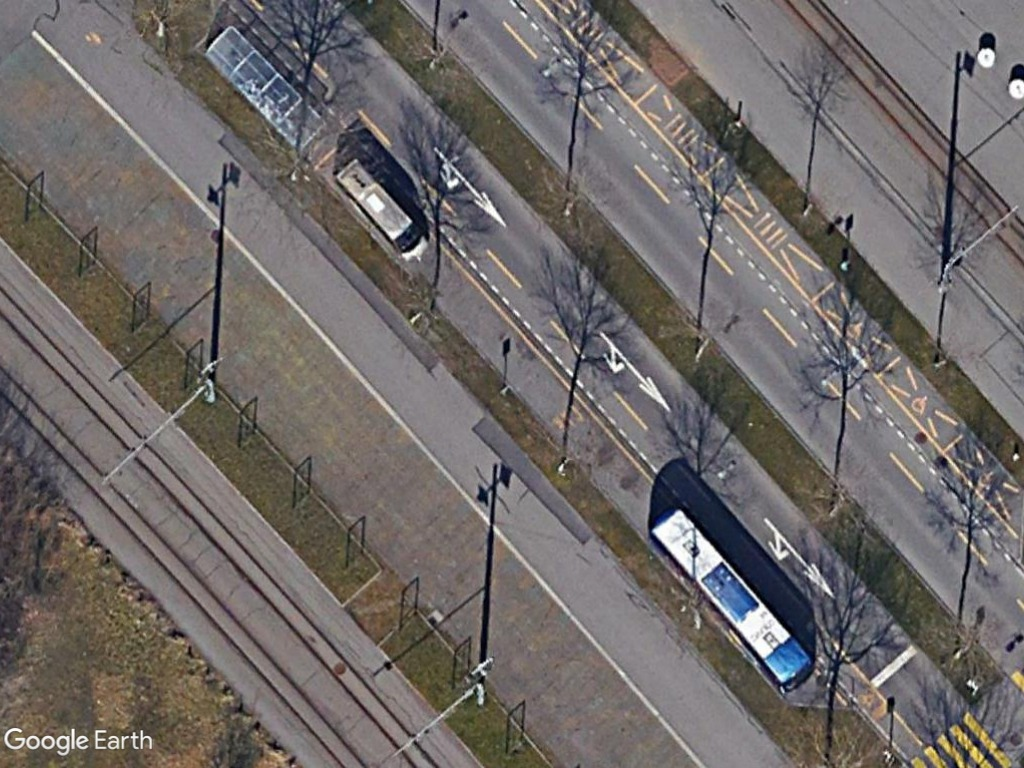bus: (647, 504, 818, 697), (332, 153, 431, 265)
